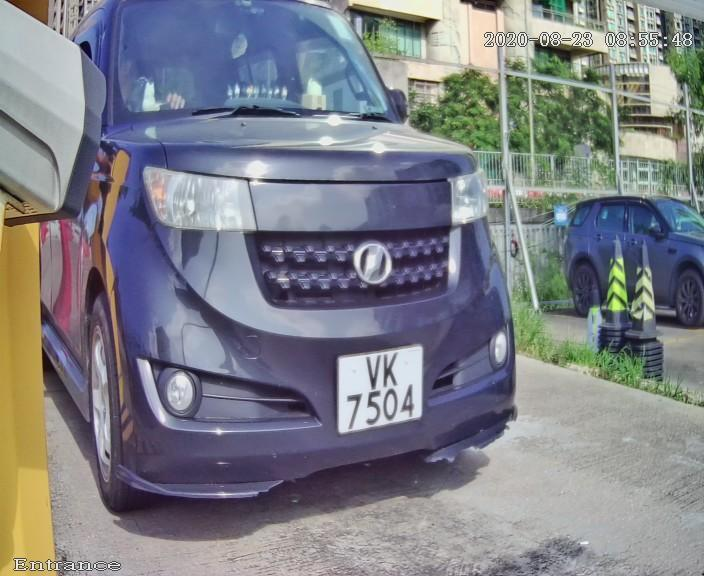License Plate: (324, 337, 431, 443)
